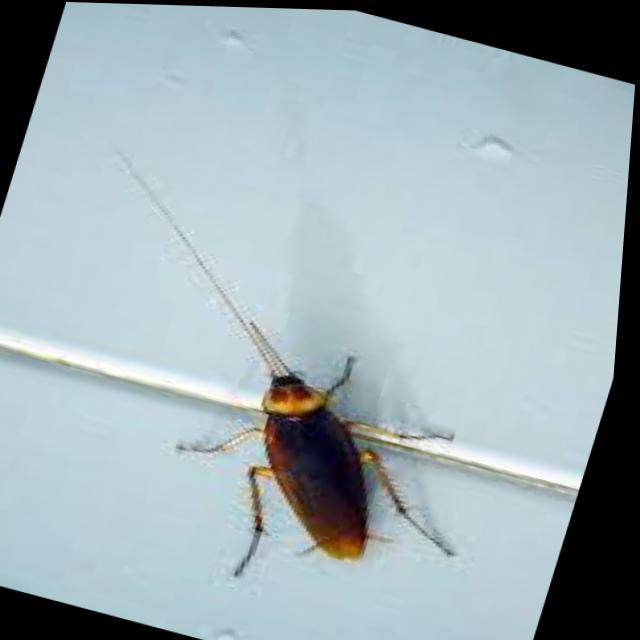Cockroach: (100, 230, 540, 636)
